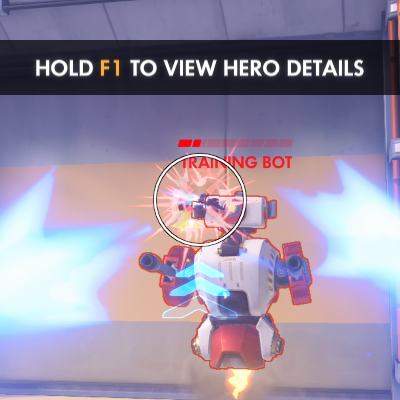hpbar: (177, 139, 293, 148)
